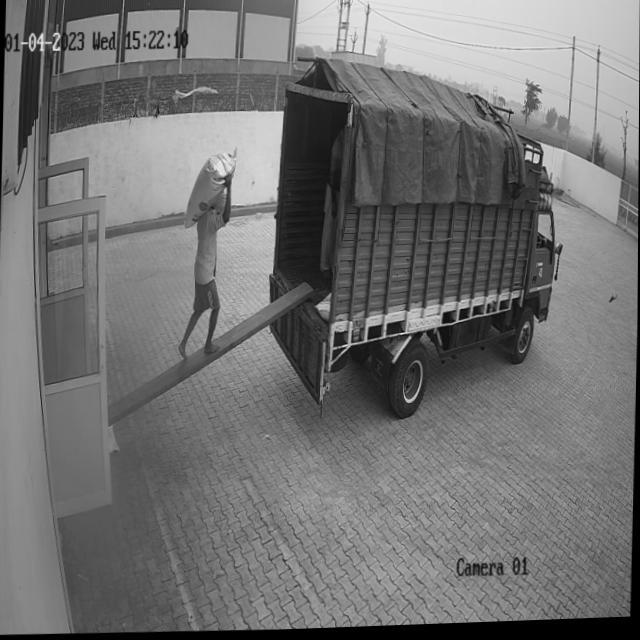sack: (184, 151, 237, 229)
